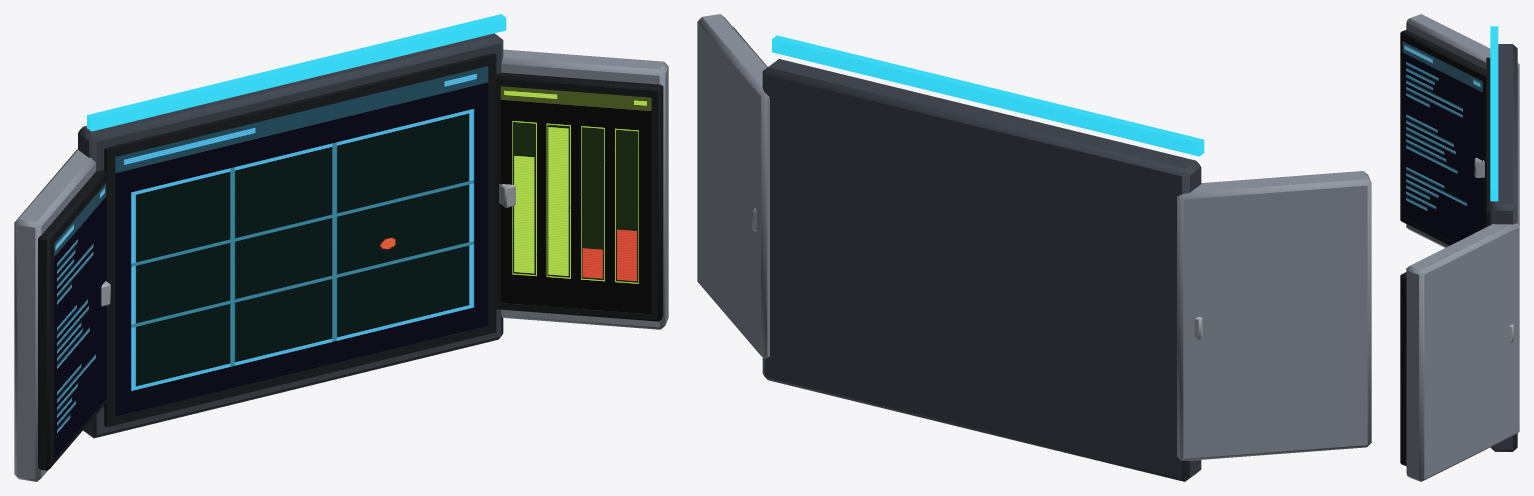
Rendered from display_wing_display.glb.
The picture shows the model from 3 angles, left to right: view 1: azimuth 30°, elevation 25°; view 2: azimuth 150°, elevation 25°; view 3: azimuth 270°, elevation 25°; orthographic projection. The views are drawn at different scales.
Parts seen in each view (by area): view 1: display_wing_display; view 2: display_wing_display; view 3: display_wing_display.
Boxes of the visible parts, bbox=[...] form: display_wing_display: bbox=[14, 14, 668, 481]; display_wing_display: bbox=[697, 14, 1371, 481]; display_wing_display: bbox=[1400, 14, 1519, 481].
Size of the model in its own units: 1.57 by 0.745 by 0.3067.
8 materials, 3 textured.
